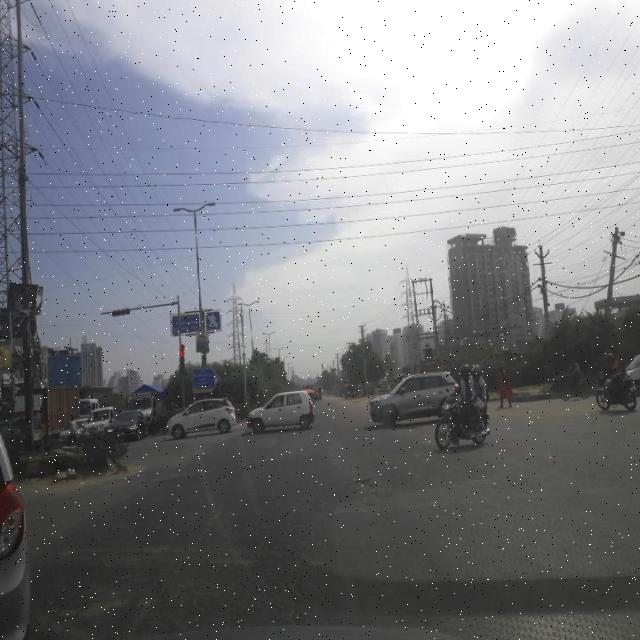D00: (135, 488, 229, 628)
D20: (37, 448, 448, 635)
